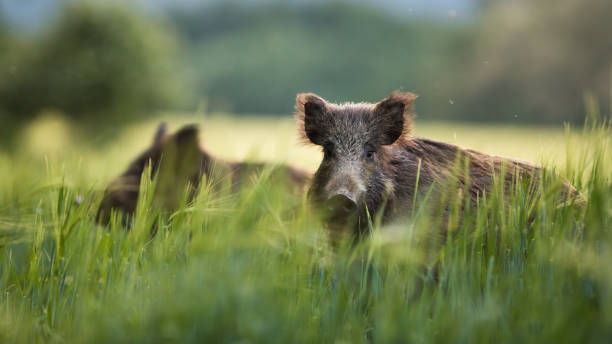pig: (290, 88, 425, 233)
